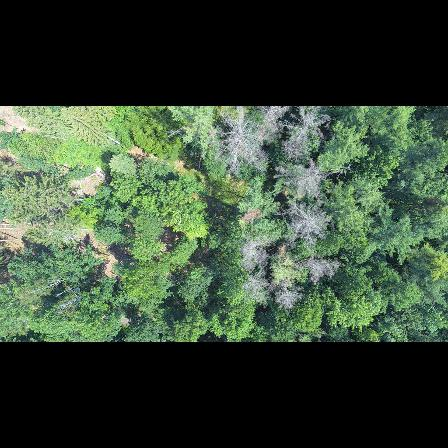Dead: (214, 109, 260, 176), (272, 160, 336, 200), (284, 107, 335, 156), (284, 200, 331, 239), (299, 251, 343, 282), (256, 106, 289, 147), (238, 234, 269, 273), (278, 276, 306, 313), (244, 275, 272, 299)
